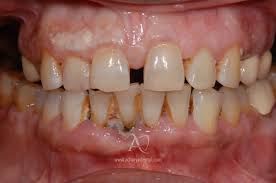decay: (115, 83, 139, 129)
normal: (144, 44, 184, 92), (90, 51, 131, 90), (63, 55, 90, 91), (248, 83, 273, 114), (241, 53, 257, 85), (21, 55, 39, 82), (45, 89, 60, 120), (257, 52, 271, 78), (32, 85, 46, 111), (239, 86, 251, 112)
rough: (61, 91, 91, 130), (129, 61, 145, 84)
yellow: (186, 50, 217, 89), (192, 88, 218, 133), (164, 87, 190, 128), (140, 83, 163, 127), (89, 92, 113, 128), (218, 51, 241, 88), (40, 51, 61, 89), (219, 87, 239, 125), (14, 81, 34, 113)
